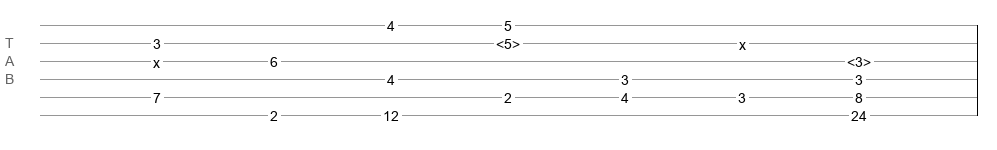12: (383, 108, 399, 118)
2: (270, 108, 278, 118), (504, 90, 512, 100)
24: (851, 108, 867, 118)
3: (153, 36, 161, 46), (621, 72, 629, 82), (738, 90, 746, 100), (855, 72, 863, 82)
4: (387, 18, 395, 28), (387, 72, 395, 82), (621, 90, 629, 100)
5: (504, 18, 512, 28)
6: (270, 54, 278, 64)
7: (153, 90, 161, 100)
8: (855, 90, 863, 100)
harmonic: (496, 36, 520, 46), (847, 54, 871, 64)
x: (153, 55, 160, 63), (739, 37, 746, 45)
